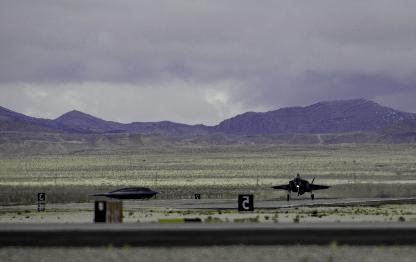B1: (88, 186, 158, 200)
F18: (270, 173, 332, 199)
